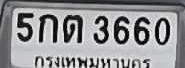0: (154, 16, 169, 44)
3: (92, 15, 108, 43)
5: (16, 12, 33, 41)
6: (133, 16, 149, 44), (113, 15, 128, 43)
A01: (38, 13, 57, 42)
A21: (62, 14, 82, 42)
BKK: (34, 53, 152, 68)
